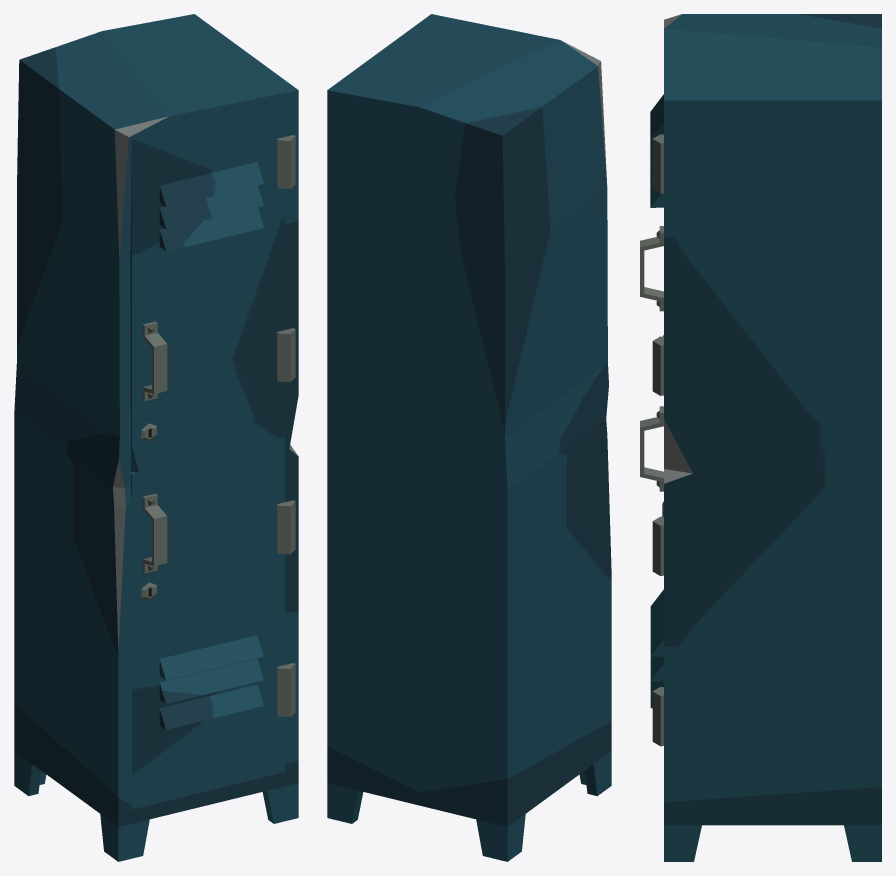
File: SM_Locker_Blue.gltf
3 views of the same model, side by side, from view 1: azimuth 30°, elevation 25°; view 2: azimuth 150°, elevation 25°; view 3: azimuth 270°, elevation 25° (orthographic). The views are drawn at different scales.
Visible parts, largest first — view 1: SM_Locker_Blue, SM_Locker_Door_Up_Blue, SM_Locker_Door_Bot_Blue; view 2: SM_Locker_Blue; view 3: SM_Locker_Blue, SM_Locker_Door_Bot_Blue, SM_Locker_Door_Up_Blue.
Part boxes in pixels (x1=…): SM_Locker_Blue: x1=14, y1=14, x2=298, y2=861; SM_Locker_Door_Up_Blue: x1=130, y1=102, x2=295, y2=472; SM_Locker_Door_Bot_Blue: x1=131, y1=437, x2=295, y2=809; SM_Locker_Blue: x1=327, y1=14, x2=611, y2=861; SM_Locker_Blue: x1=664, y1=14, x2=881, y2=861; SM_Locker_Door_Bot_Blue: x1=640, y1=406, x2=663, y2=746; SM_Locker_Door_Up_Blue: x1=640, y1=94, x2=663, y2=395.
Size of the model in its own units: 0.5405 by 2.1 by 0.6001.
1 material, 1 textured.
